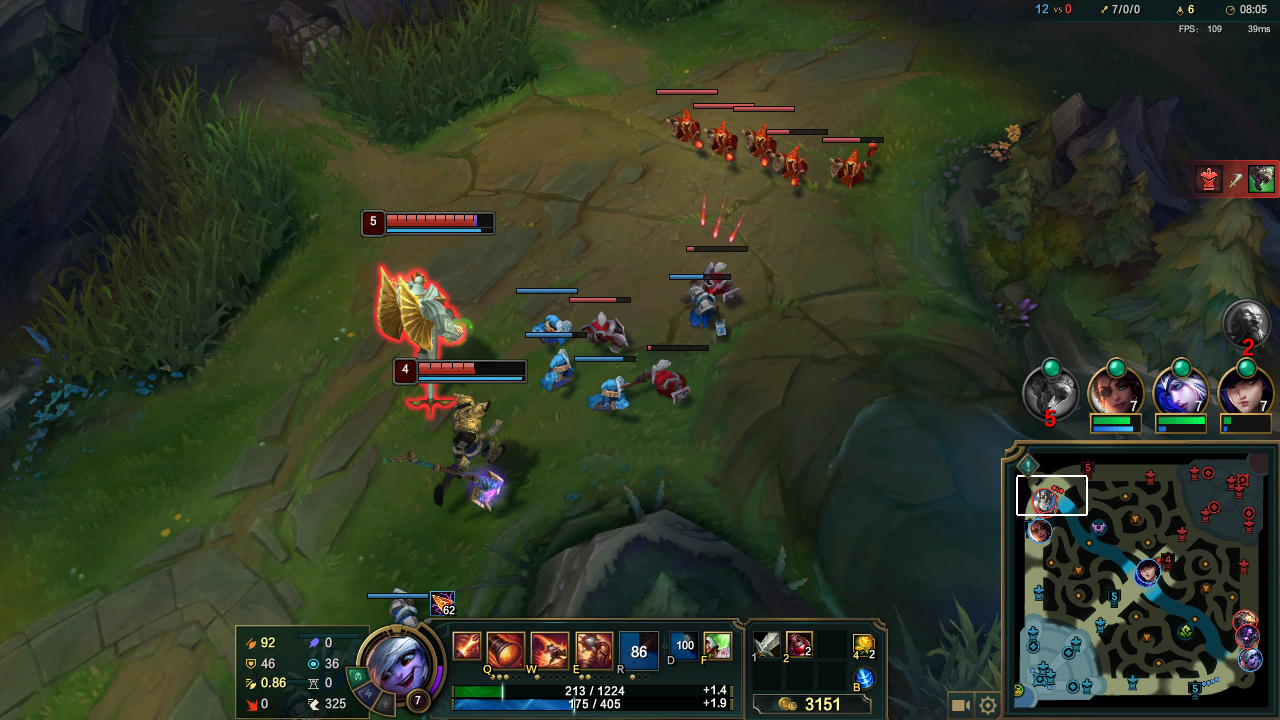DFXB: (737, 115, 792, 168), (826, 146, 882, 198), (641, 353, 689, 405), (772, 142, 817, 193), (574, 313, 628, 353), (703, 115, 747, 161), (666, 104, 708, 151), (695, 261, 736, 300)
DFYX: (414, 363, 523, 381), (375, 213, 495, 227)
WFXB: (677, 285, 731, 339), (586, 367, 637, 417), (523, 310, 578, 347), (539, 350, 579, 392), (385, 587, 421, 622)
Yita: (1186, 674, 1203, 695)
